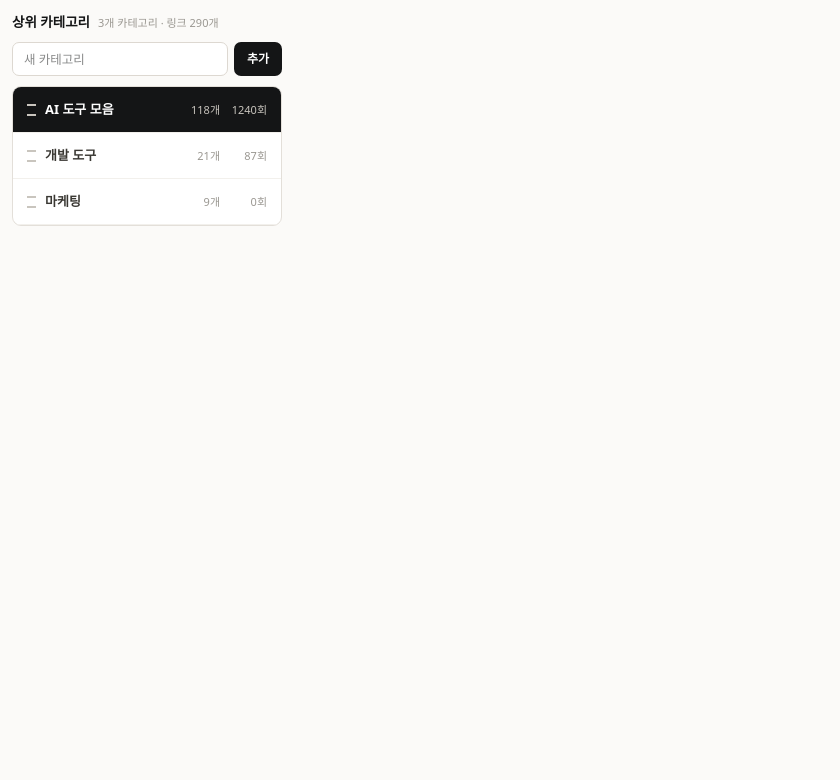
Test: CategoryPanel — 카테고리 추가 › 실패하면 액션의 문구를 그대로 띄우고 적어 둔 이름을 지우지 않는다
In the field labelled "새 카테고리": (120, 59) x1=12 y1=42 x2=228 y2=76, type "마케팅"
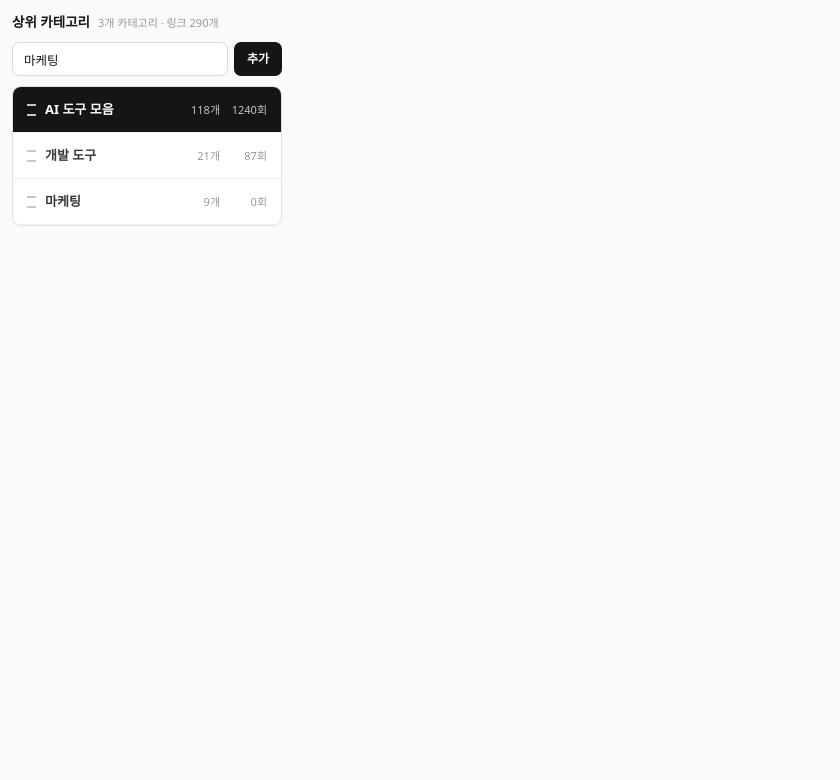
Click the button "추가": (258, 59) x1=234 y1=42 x2=282 y2=76
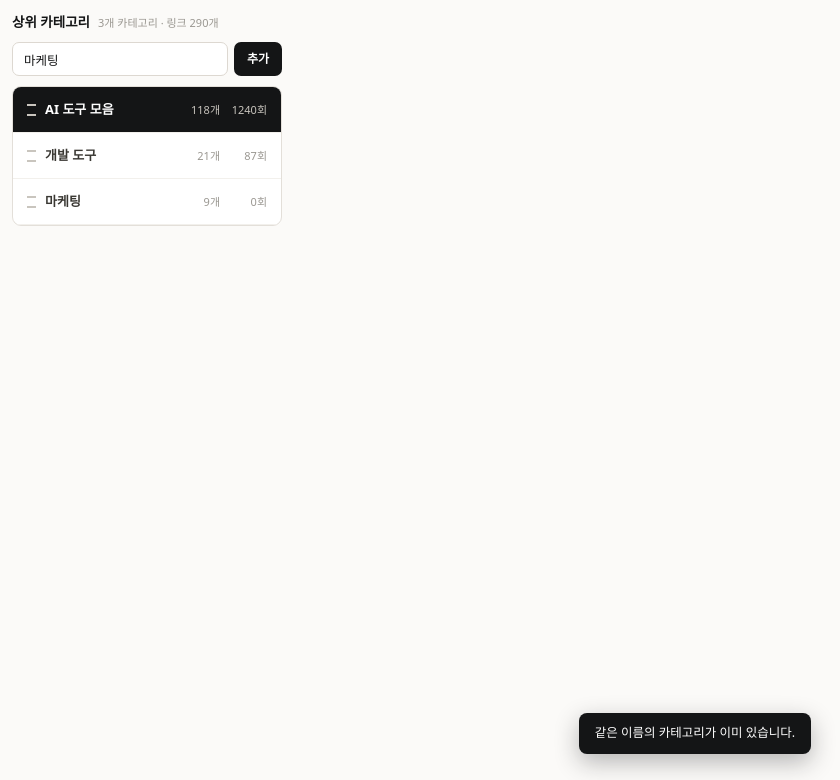
expect the message reads "같은 이름의 카테고리가 이미 있습니다.": met, box x1=595 y1=724 x2=795 y2=741
